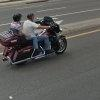Motorcycle: (4, 7, 70, 69)
